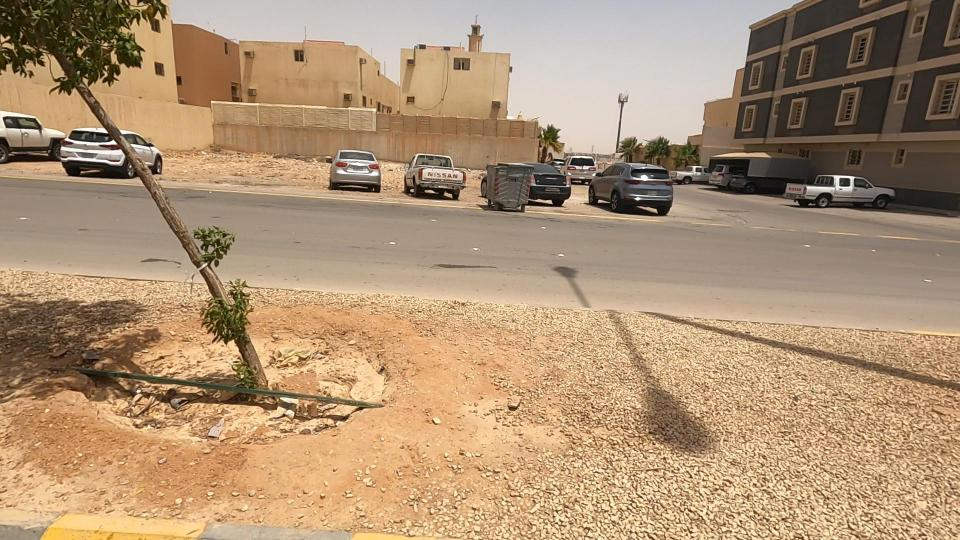CLUTTER_SIDEWALK: (144, 206, 960, 540)
